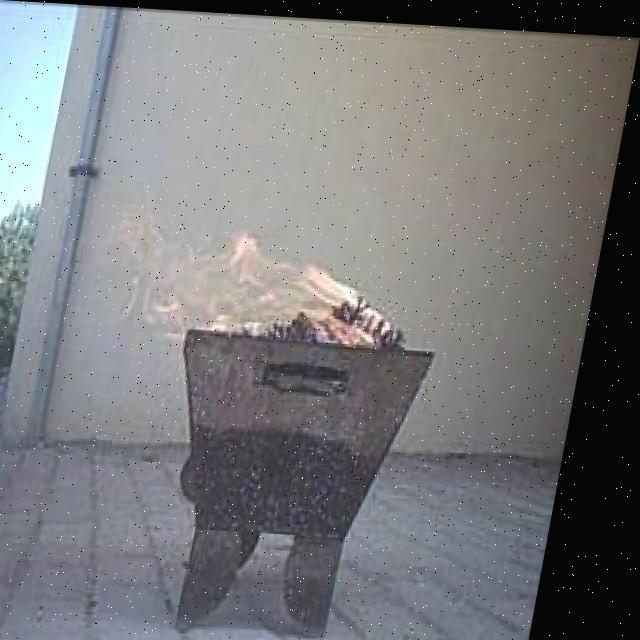Fire: (71, 144, 454, 392)
